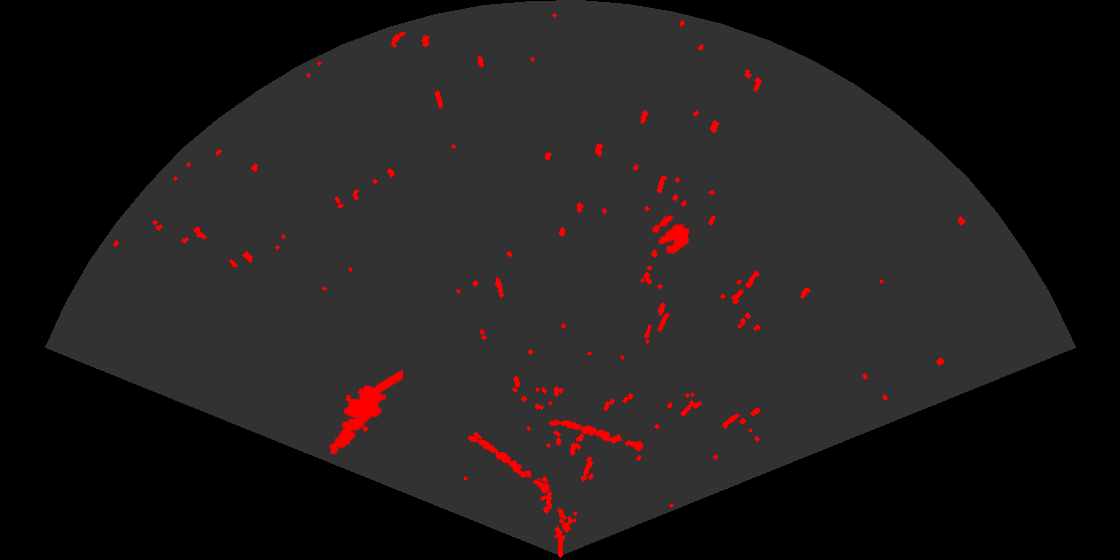ball: (650, 213, 692, 256)
chain: (466, 434, 551, 495), (547, 418, 646, 453)
frogman: (328, 370, 403, 456)
